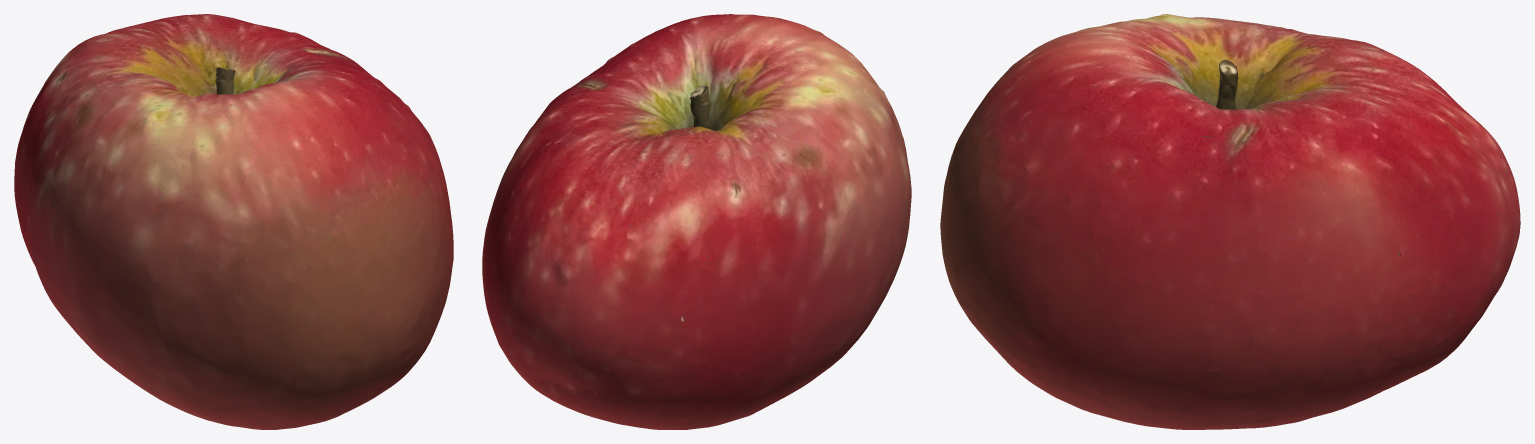
Rendered from kitchen-apple-01.glb.
The picture shows the model from 3 angles, left to right: view 1: azimuth 30°, elevation 25°; view 2: azimuth 150°, elevation 25°; view 3: azimuth 270°, elevation 25°; orthographic projection. The views are drawn at different scales.
Visible parts, largest first — view 1: mesh_node; view 2: mesh_node; view 3: mesh_node.
Boxes of the visible parts, x1,y1,x2,y2 form: mesh_node: [14, 14, 453, 429]; mesh_node: [482, 14, 911, 429]; mesh_node: [940, 14, 1520, 429].
Bounding box in the file's own units: 1.36 × 1.3 × 1.9.
1 material, 1 textured.
